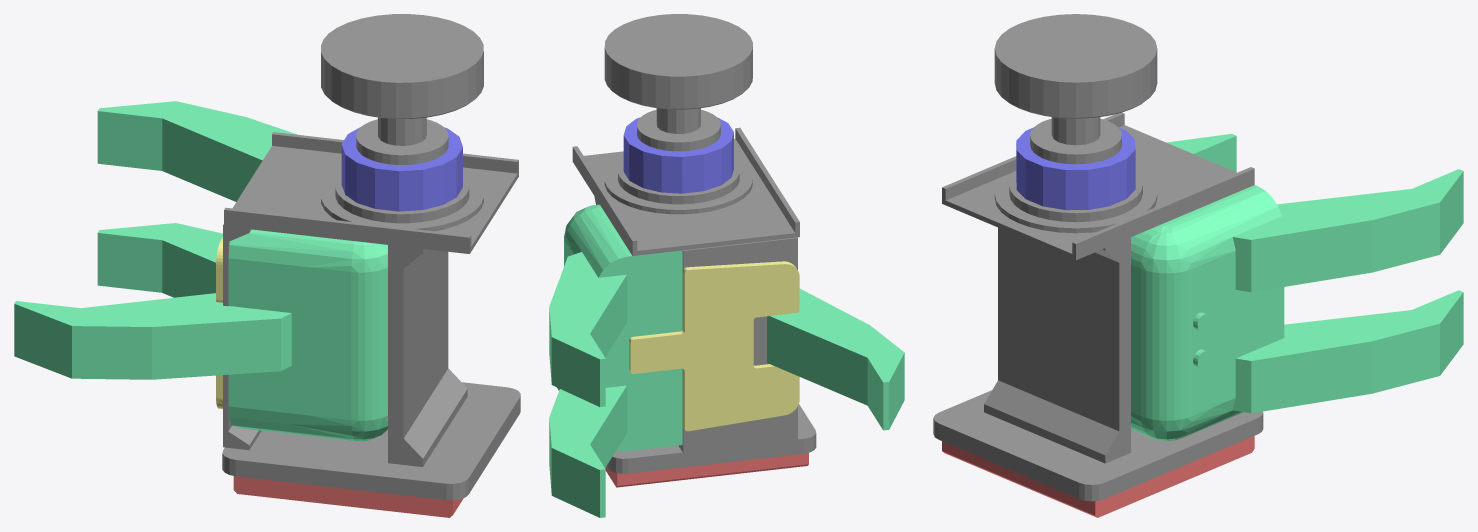
File: RARM_LINK7_mesh.dae
The picture shows the model from 3 angles, left to right: view 1: azimuth 30°, elevation 25°; view 2: azimuth 150°, elevation 25°; view 3: azimuth 270°, elevation 25°; orthographic projection. The views are drawn at different scales.
Parts seen in each view (by area): view 1: RARM_LINK7 (×6); view 2: RARM_LINK7 (×6); view 3: RARM_LINK7 (×5).
Part boxes in pixels (x1,y1,x2,y2): RARM_LINK7 (×6): [14, 14, 520, 517]; RARM_LINK7 (×6): [549, 14, 904, 517]; RARM_LINK7 (×5): [933, 14, 1463, 517].
Size of the model in its own units: 0.2758 by 0.253 by 0.2935.
